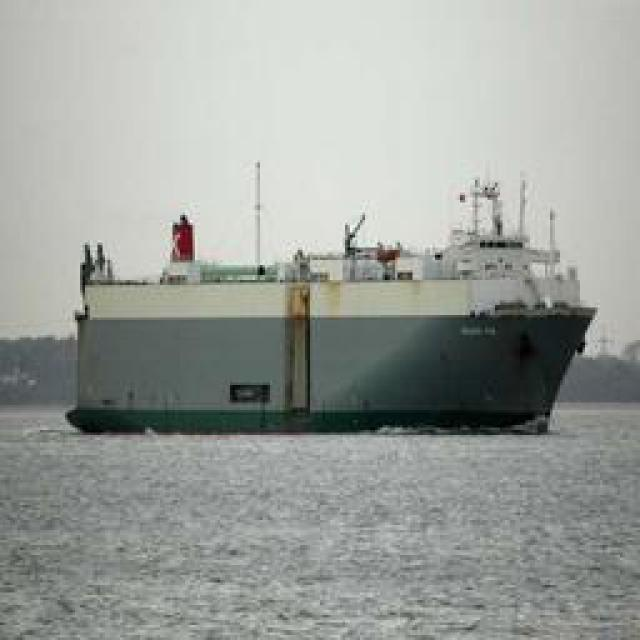Ship: (55, 190, 603, 443)
